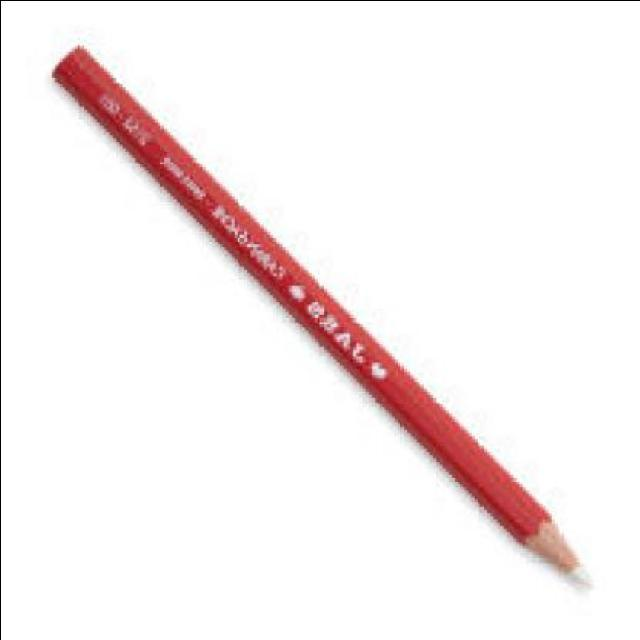pencil: (499, 492, 608, 614)
